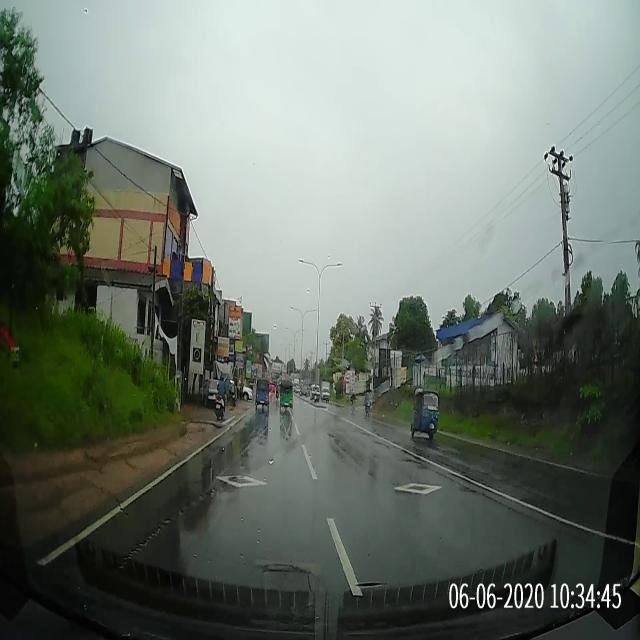diamond: (147, 454, 324, 498)
